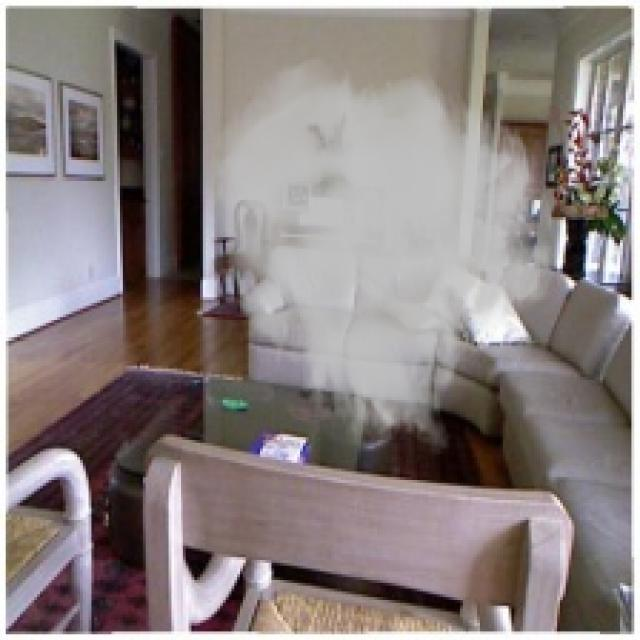smoke: (209, 54, 557, 457)
